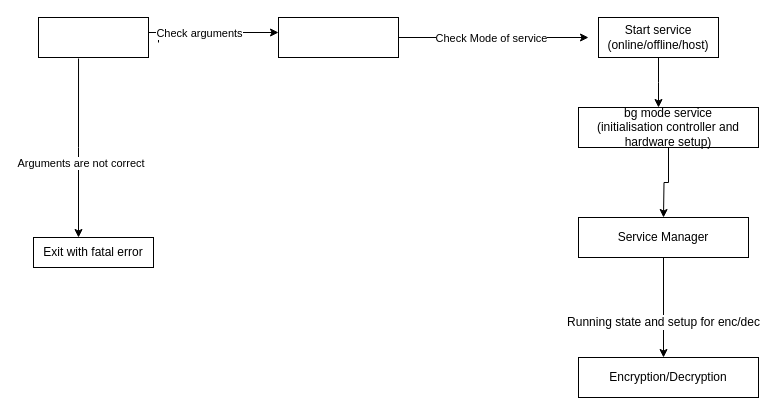
Some shapes in this 777 by 415 pixel diagram are drawn without their labels. Each missing label, with the centre of its shape:
"Controller.cpp main()" belongs at pixel 93 37.
"Tester code" belongs at pixel 338 37.
